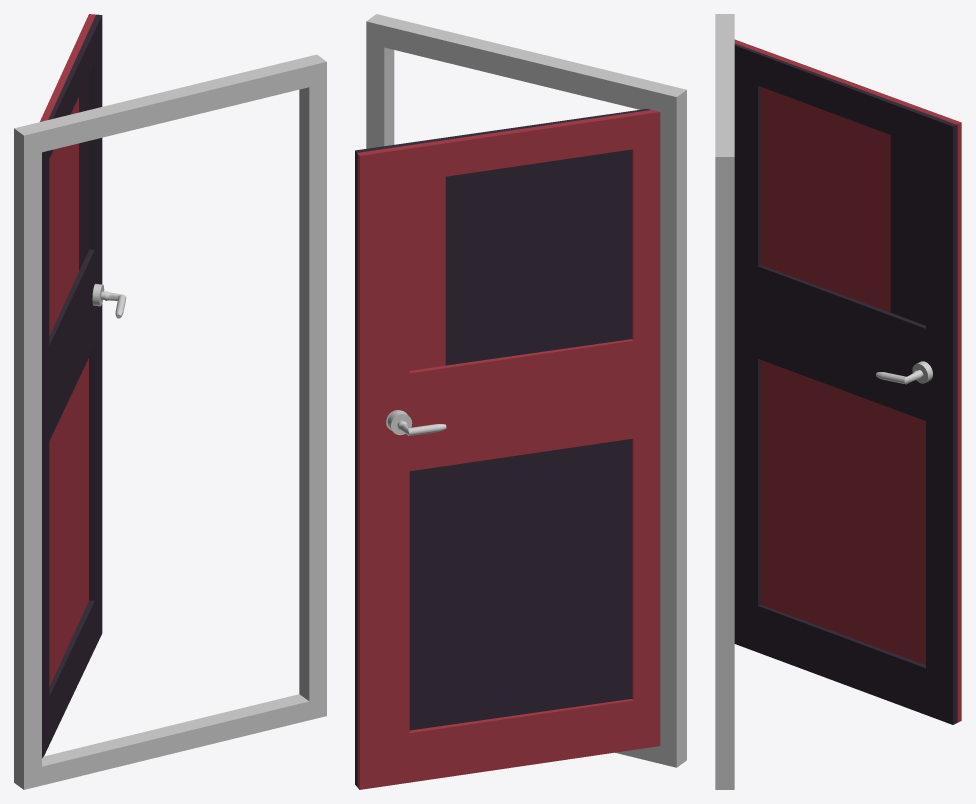
Rendered from TÅropen.fbx.
The picture shows the model from 3 angles, left to right: view 1: azimuth 30°, elevation 25°; view 2: azimuth 150°, elevation 25°; view 3: azimuth 270°, elevation 25°; orthographic projection. The views are drawn at different scales.
Parts seen in each view (by area): view 1: Cube, Cube.002, Cube.001, Cylinder.001; view 2: Cube.001, Cube.002, Cube, Cylinder; view 3: Cube.002, Cube.001, Cube, Cylinder.001.
Part boxes in pixels (x1,y1,x2,y2): Cube: (14,54,326,789); Cube.002: (42,14,102,758); Cube.001: (40,14,95,686); Cylinder.001: (92,283,126,318); Cube.001: (357,110,660,789); Cube.002: (355,109,650,786); Cube: (366,14,686,767); Cylinder: (387,410,446,435); Cube.002: (734,43,957,724); Cube.001: (734,39,961,722); Cube: (715,14,734,789); Cylinder.001: (876,361,932,384).
Size of the model in its own units: 111 by 229 by 80.74.
